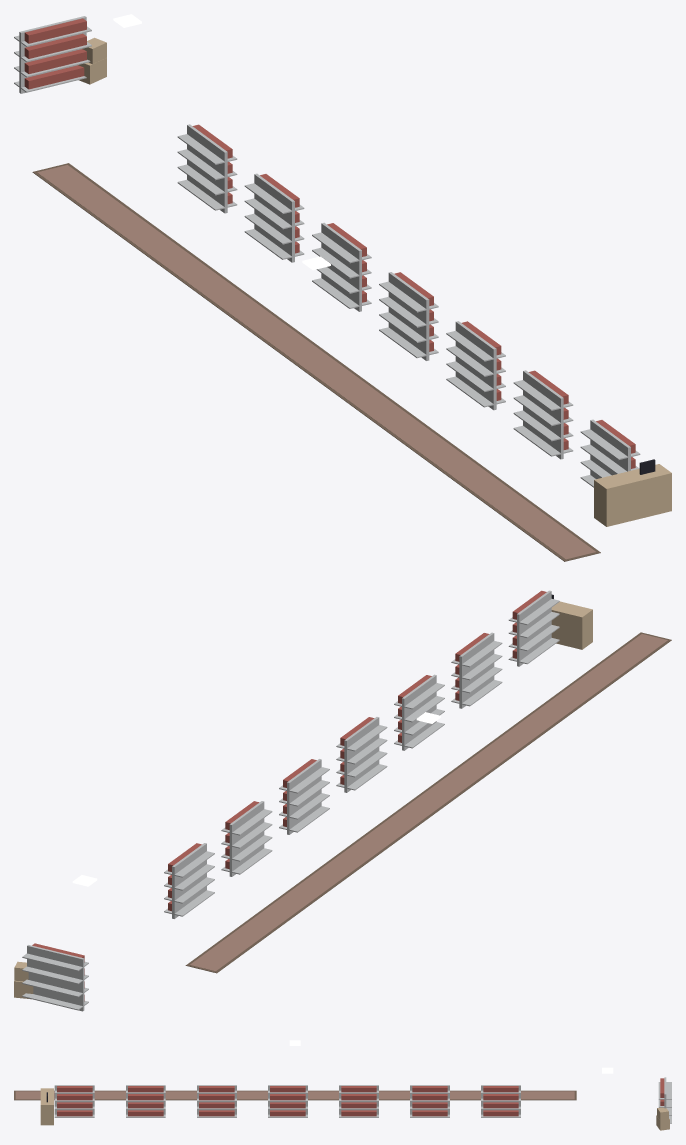
The model's file is fine-s0.glb.
3 renders of one model, top to bottom at view 1: azimuth 30°, elevation 25°; view 2: azimuth 150°, elevation 25°; view 3: azimuth 270°, elevation 25°, orthographic. The views are drawn at different scales.
Visible parts, largest first — view 1: soft-s0, shelving.000, shop-counter.000, shelf.004, shelf.000, shelf.005, shelf.003, shelf.001, shelf.002, shelf.006, cardboard-box.000; view 2: soft-s0, shelving.000, shelf.003, shelf.001, shelf.005, shelf.006, shelf.002, shelf.000, shelf.004, shop-counter.000; view 3: soft-s0, shelf.006, shelf.000, shelf.001, shelf.002, shelf.003, shelf.004, shelf.005, shop-counter.000, shelving.000, cardboard-box.000.
Part boxes in pixels (box(x1,y1,x2,y2)): soft-s0: box(32, 163, 600, 561); shelving.000: box(14, 16, 91, 93); shop-counter.000: box(594, 459, 671, 526); shelf.004: box(446, 321, 505, 410); shelf.000: box(177, 124, 237, 213); shelf.005: box(513, 370, 573, 459); shelf.003: box(379, 272, 438, 360); shelf.001: box(244, 173, 304, 262); shelf.002: box(312, 222, 371, 311); shelf.006: box(580, 419, 640, 487); cardboard-box.000: box(78, 37, 106, 84); soft-s0: box(185, 632, 671, 973); shelving.000: box(22, 943, 88, 1011); shelf.003: box(336, 717, 387, 792); shelf.001: box(221, 801, 272, 876); shelf.005: box(451, 632, 502, 708); shelf.006: box(508, 590, 559, 666); shelf.002: box(279, 759, 329, 834); shelf.000: box(164, 843, 214, 918); shelf.004: box(394, 674, 444, 750); shop-counter.000: box(551, 594, 592, 649); soft-s0: box(14, 1090, 576, 1100); shelf.006: box(54, 1085, 94, 1117); shelf.000: box(481, 1085, 520, 1117); shelf.001: box(410, 1085, 449, 1117); shelf.002: box(339, 1085, 378, 1117); shelf.003: box(268, 1085, 307, 1117); shelf.004: box(197, 1085, 236, 1117); shelf.005: box(126, 1085, 165, 1117); shop-counter.000: box(40, 1088, 53, 1125); shelving.000: box(658, 1077, 671, 1123); cardboard-box.000: box(656, 1107, 669, 1130).
Size of the model in its own units: 4.23 by 2.64 by 29.64.
